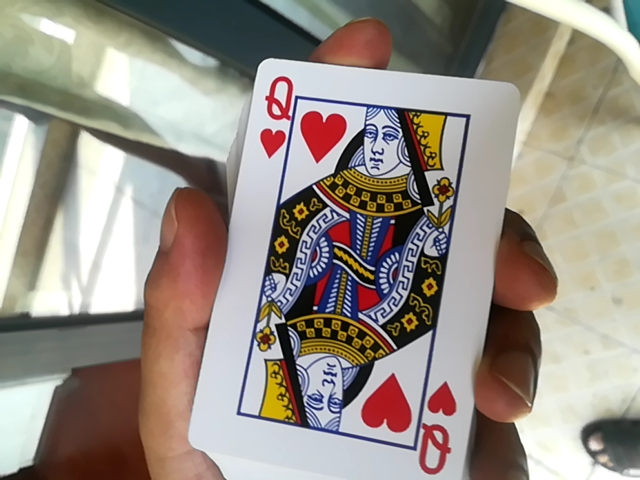hx q: (190, 53, 495, 475)
